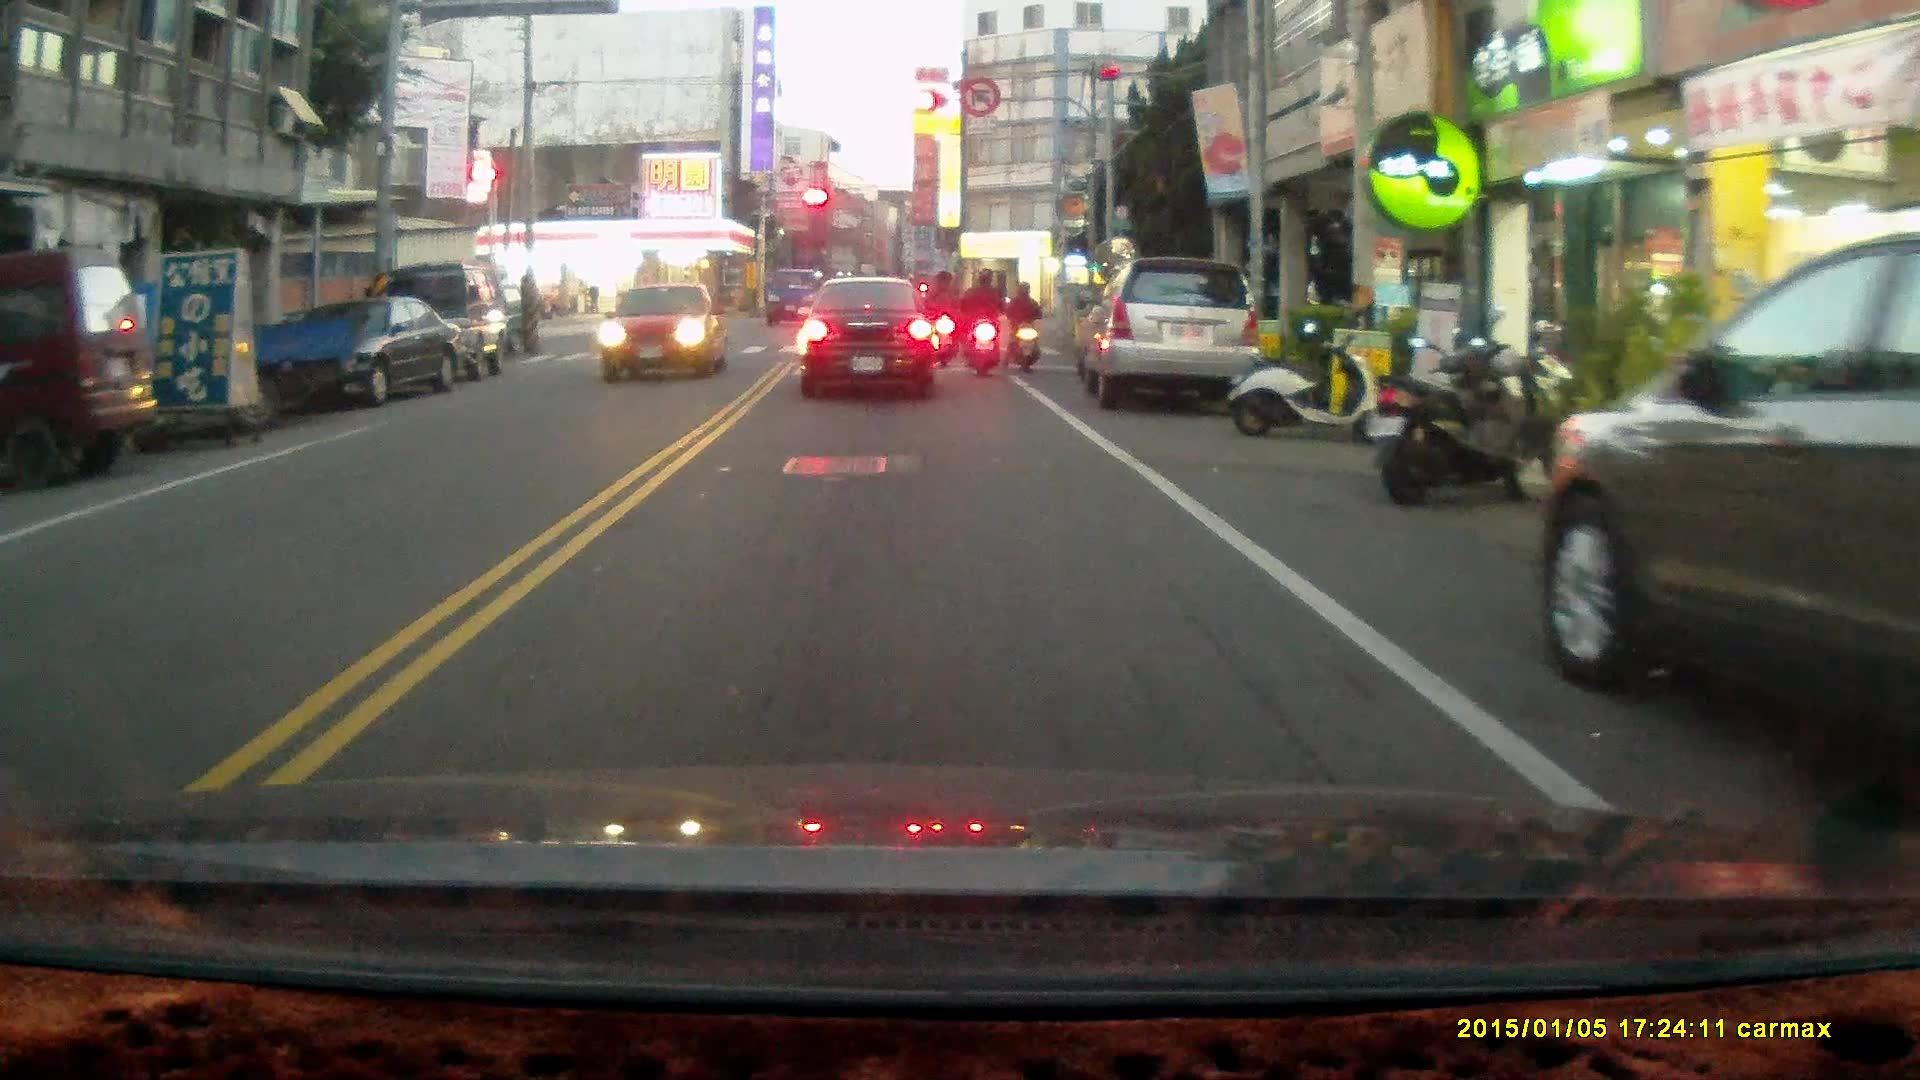rider: (958, 269, 1009, 381), (925, 269, 962, 369), (1006, 282, 1043, 377)
vehicle: (1532, 227, 1920, 827), (1, 250, 163, 479), (1077, 256, 1268, 419), (252, 293, 470, 408), (375, 257, 515, 387), (799, 274, 941, 402), (599, 283, 724, 384)
